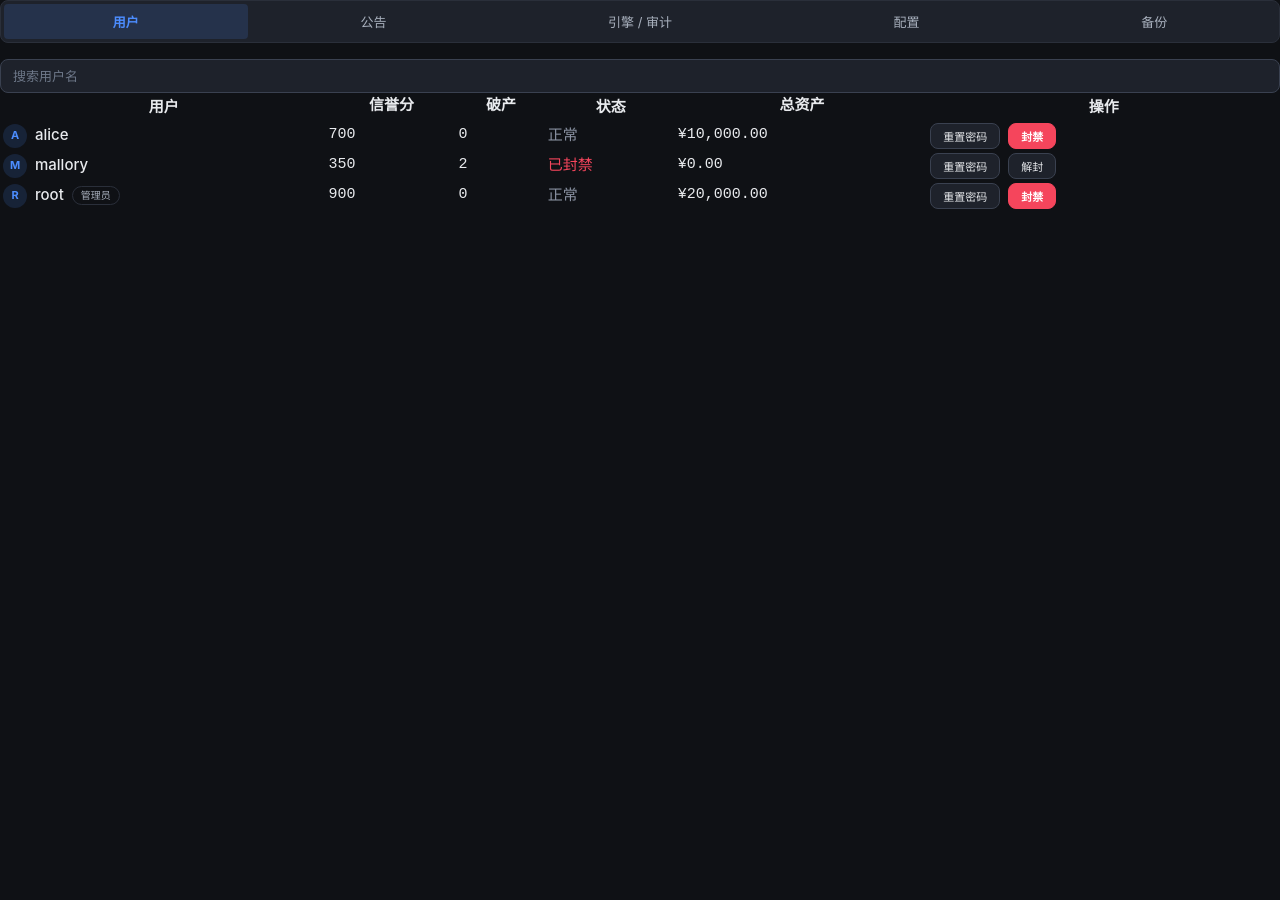
封禁需二次确认 › 取消则不发请求
expect the table with test id "admin-users" is shown: met, box [0,93,1279,212]
Step 1. Click the button with test id "ban-1" → (1032,136), box [1008,122,1056,148]
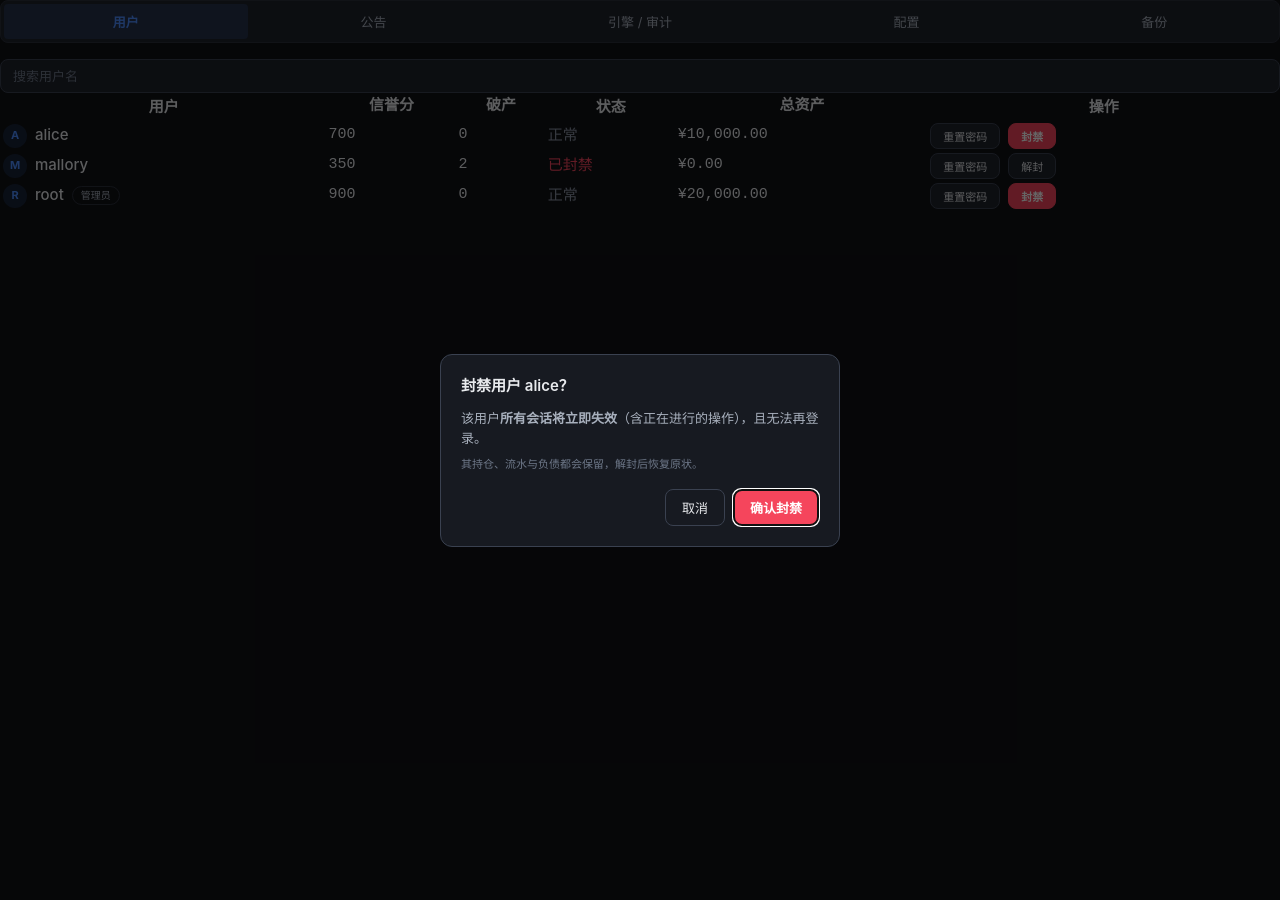
Step 2. Click the button with test id "confirm-cancel" → (695,507), box [665,488,725,526]
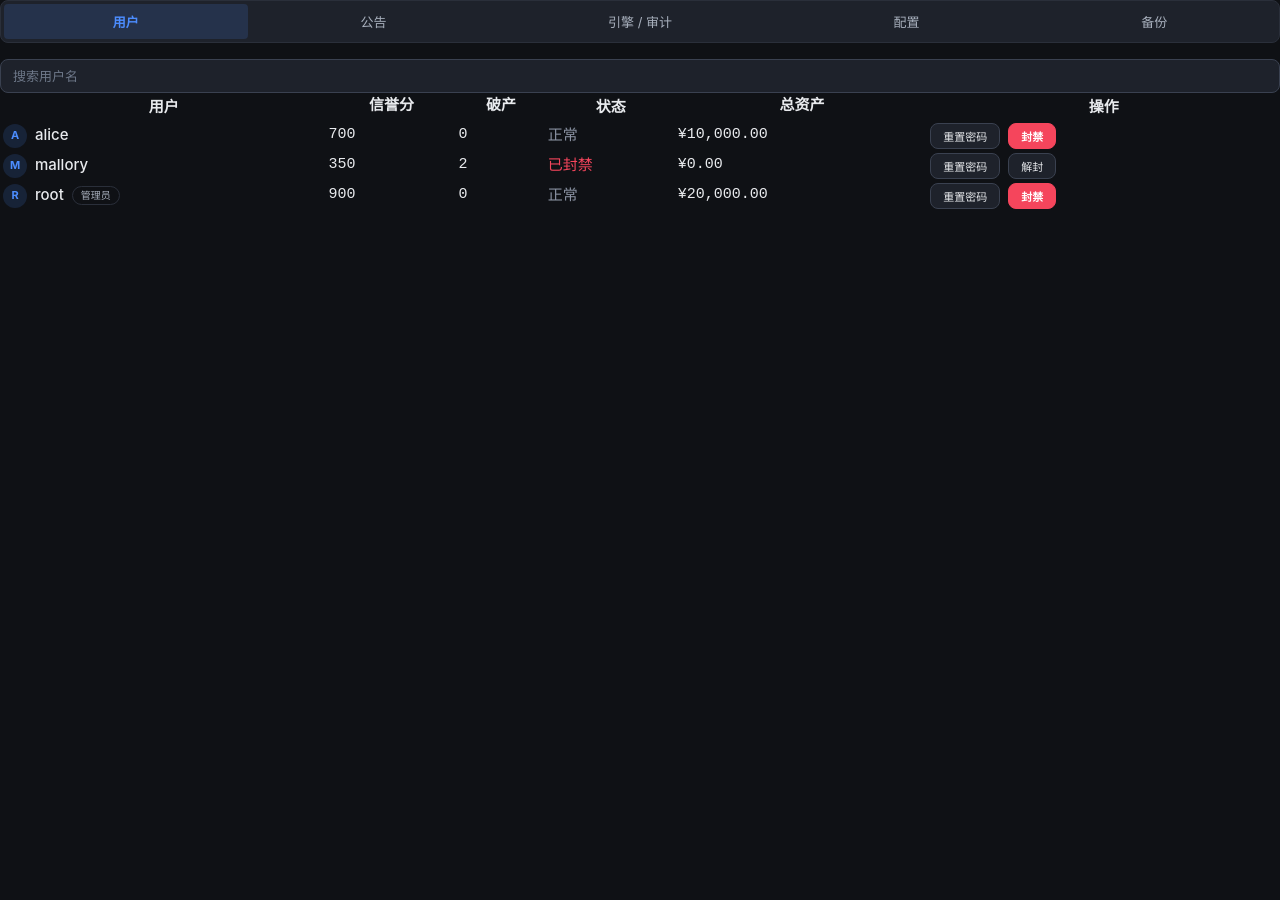
expect the dialog with test id "confirm-dialog" is gone: met
